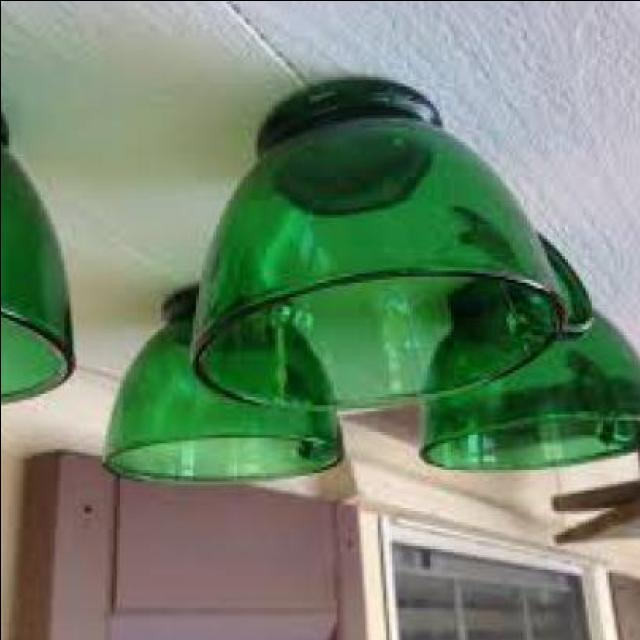kaca: (185, 79, 588, 414), (98, 282, 339, 483), (415, 278, 640, 472), (0, 95, 73, 407)
